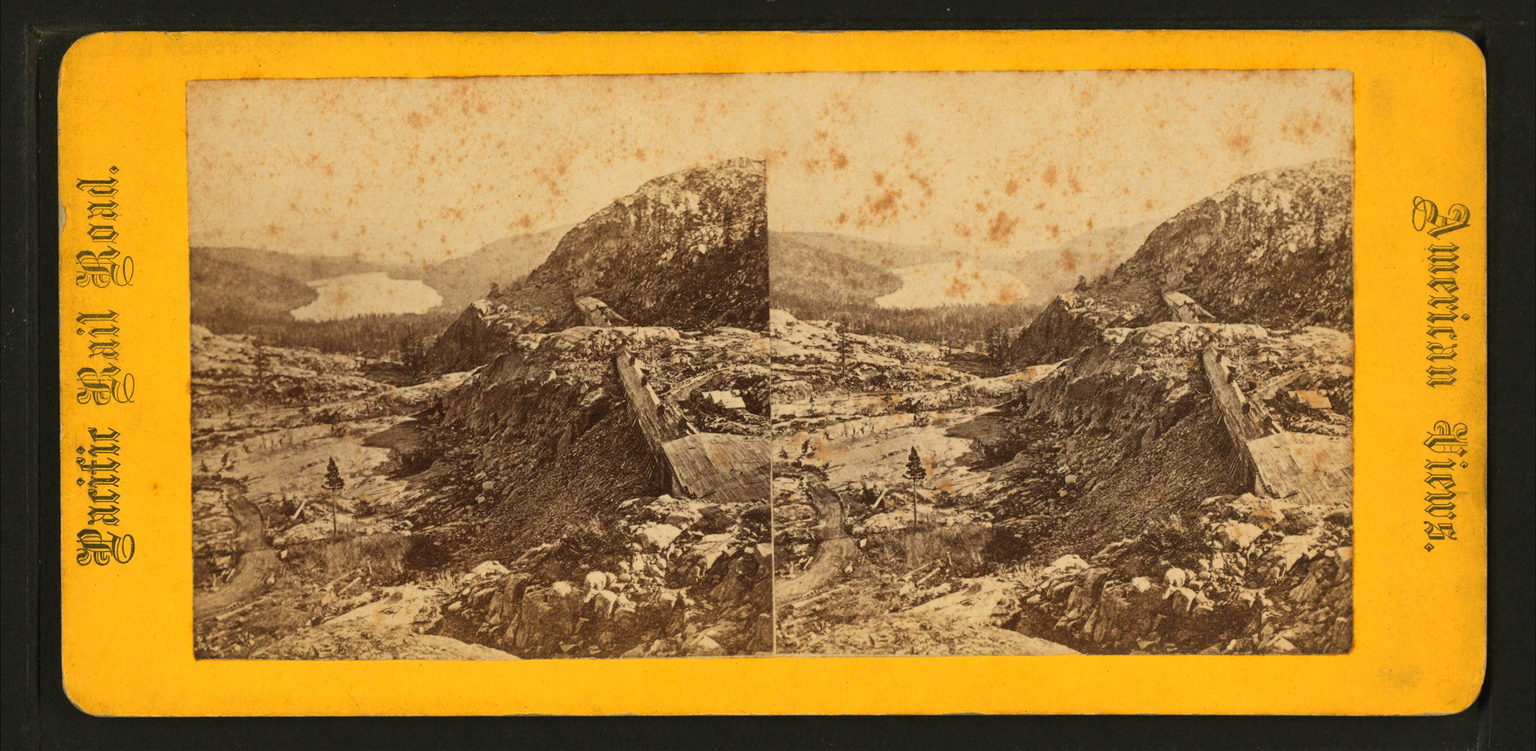half_image: (185, 74, 774, 659), (767, 71, 1353, 656)
